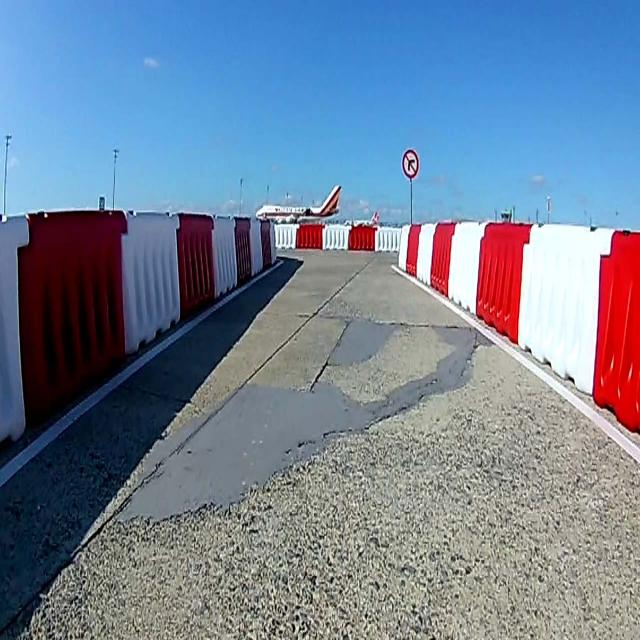sagadonulmez: (401, 149, 419, 179)
